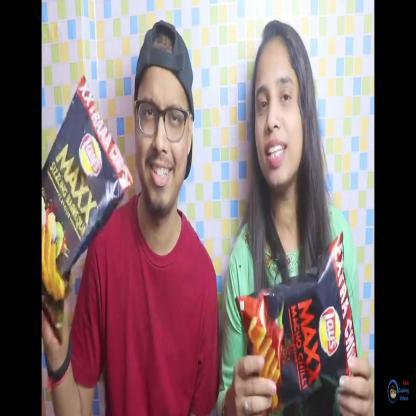max_chili: (233, 231, 358, 401)
maxx_sizzling_barbeque: (44, 75, 129, 329)
